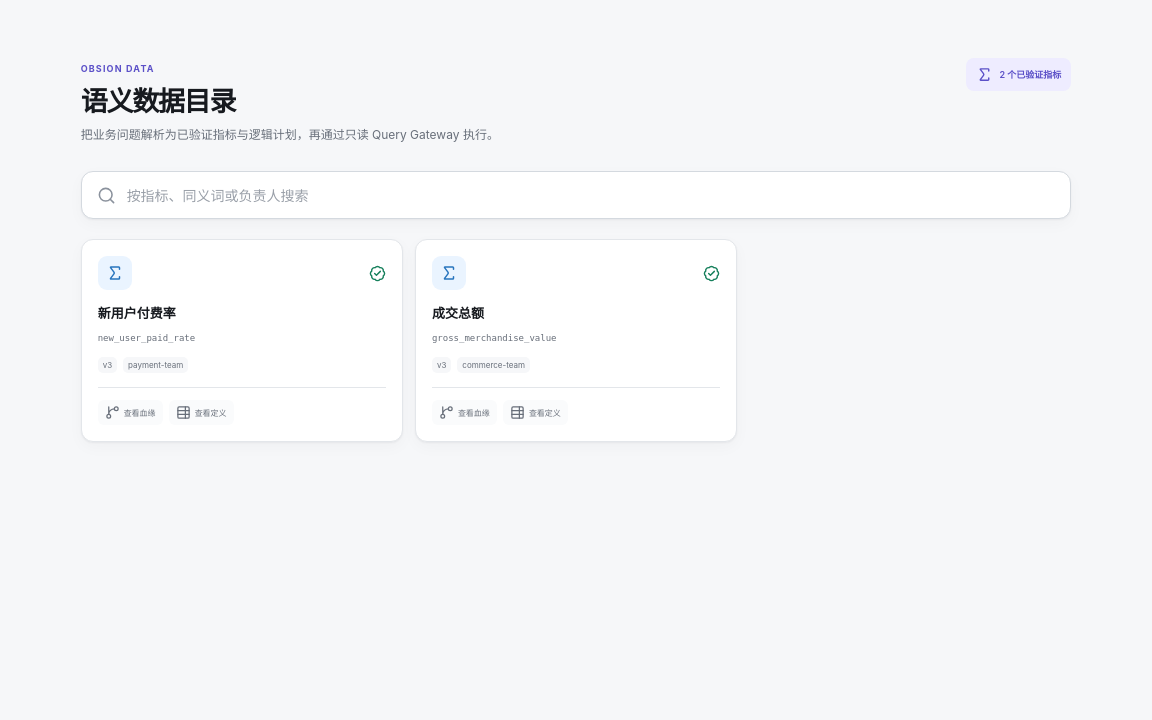
Test: DataView interactions › opens a governed metric definition in a named dialog
The image size is (1152, 720).
Expected: the heading "新用户付费率" is shown, [98,305,176,321]
Click the button "查看定义" below "payment-team" at (201, 413), box [169,400,234,425]
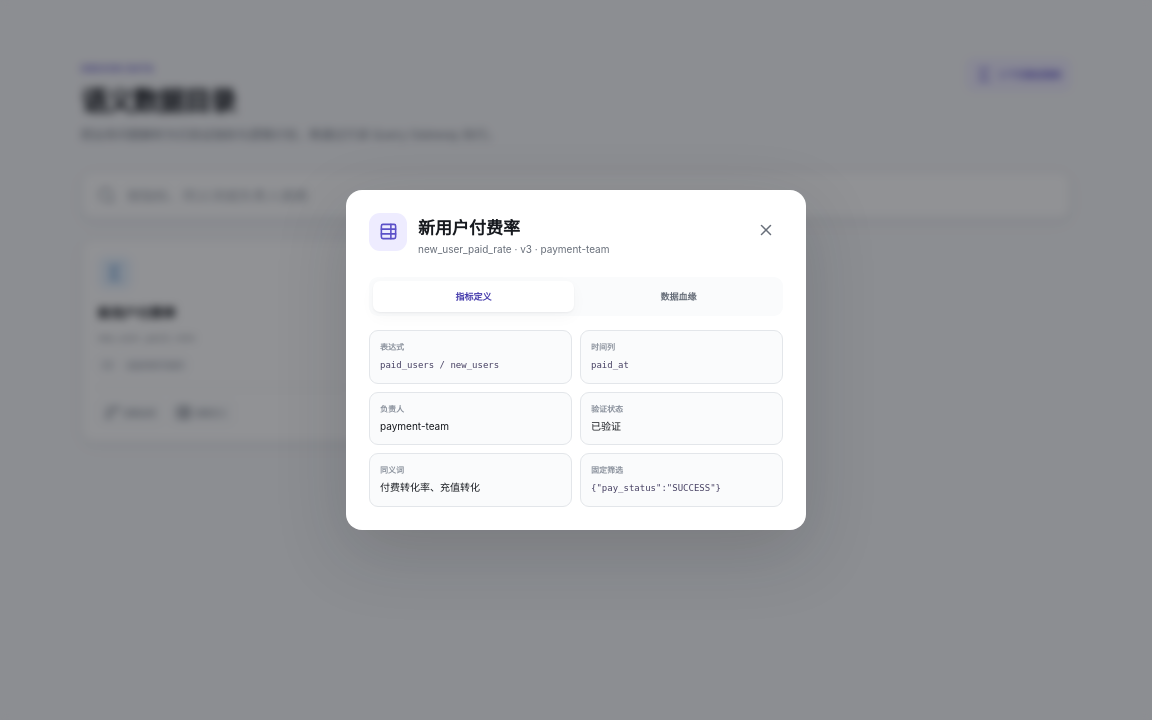
Expected: the dialog named "新用户付费率 指标详情" is shown, [346,190,806,530]
Expected: the text "paid_users / new_users" is shown, [380,360,499,370]
Expected: the text "paid_at" is shown, [591,360,629,370]
